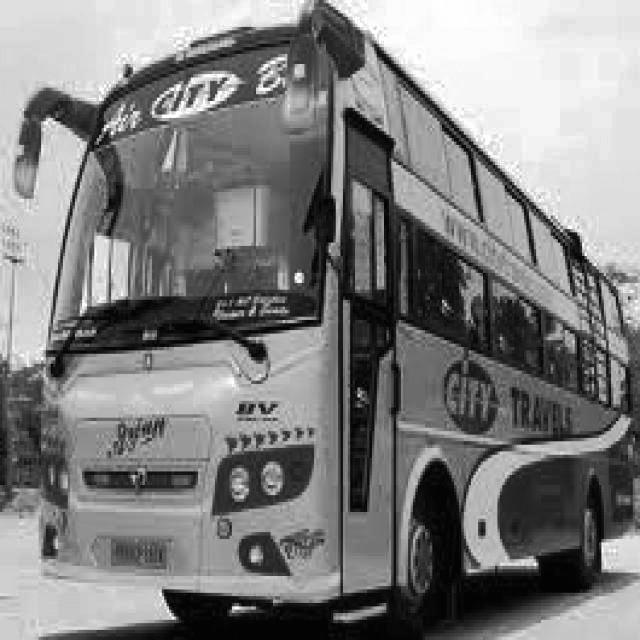Bus: (34, 19, 639, 640)
